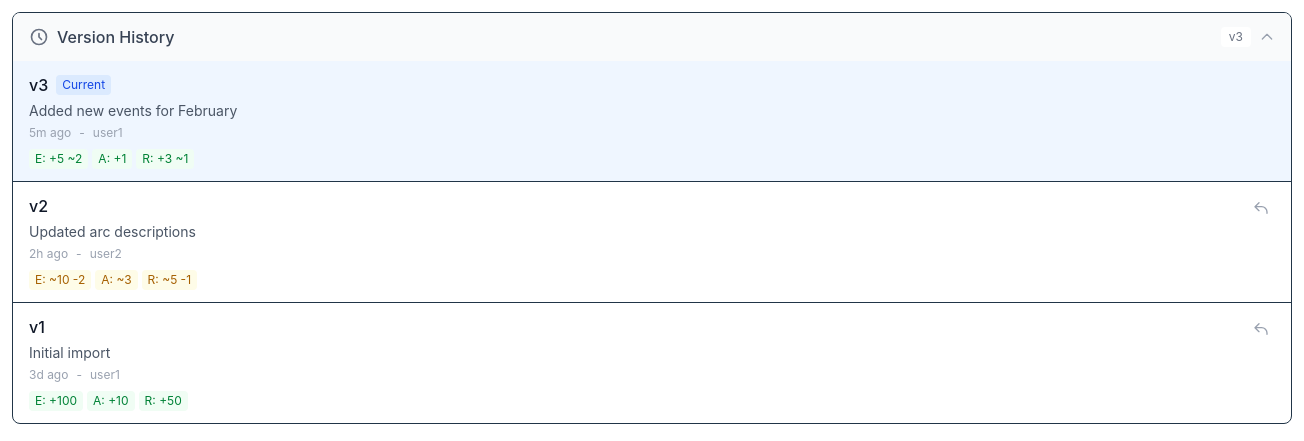
Test case: VersionHistoryPanel › Rollback Functionality › should show confirmation buttons when rollback is clicked
Click the 1st button titled "Rollback to this version": point(1261, 208) [1247,194,1275,222]
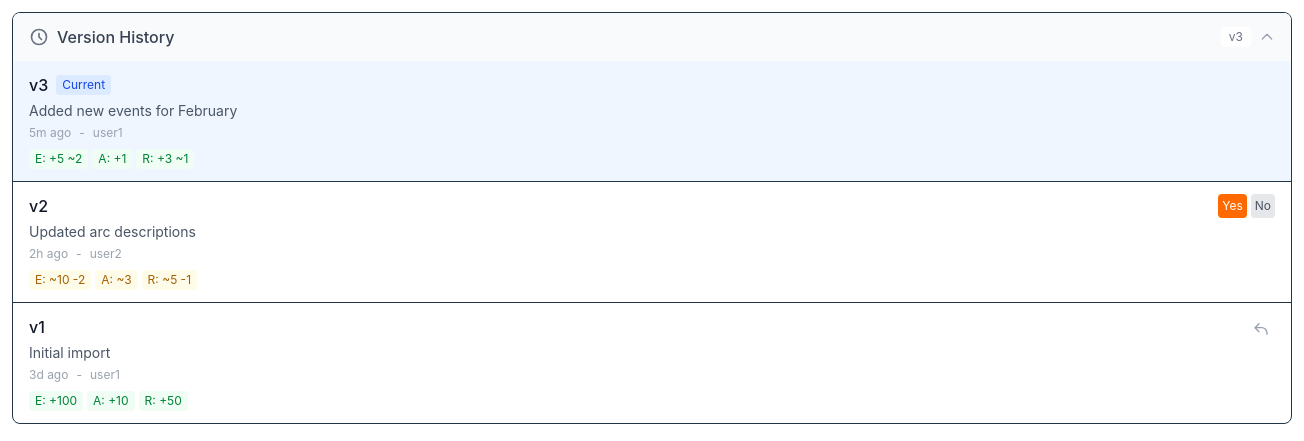
Check: the button "Yes" is shown, box [1218,194,1247,218]
Check: the button "No" is shown, box [1251,194,1275,218]
